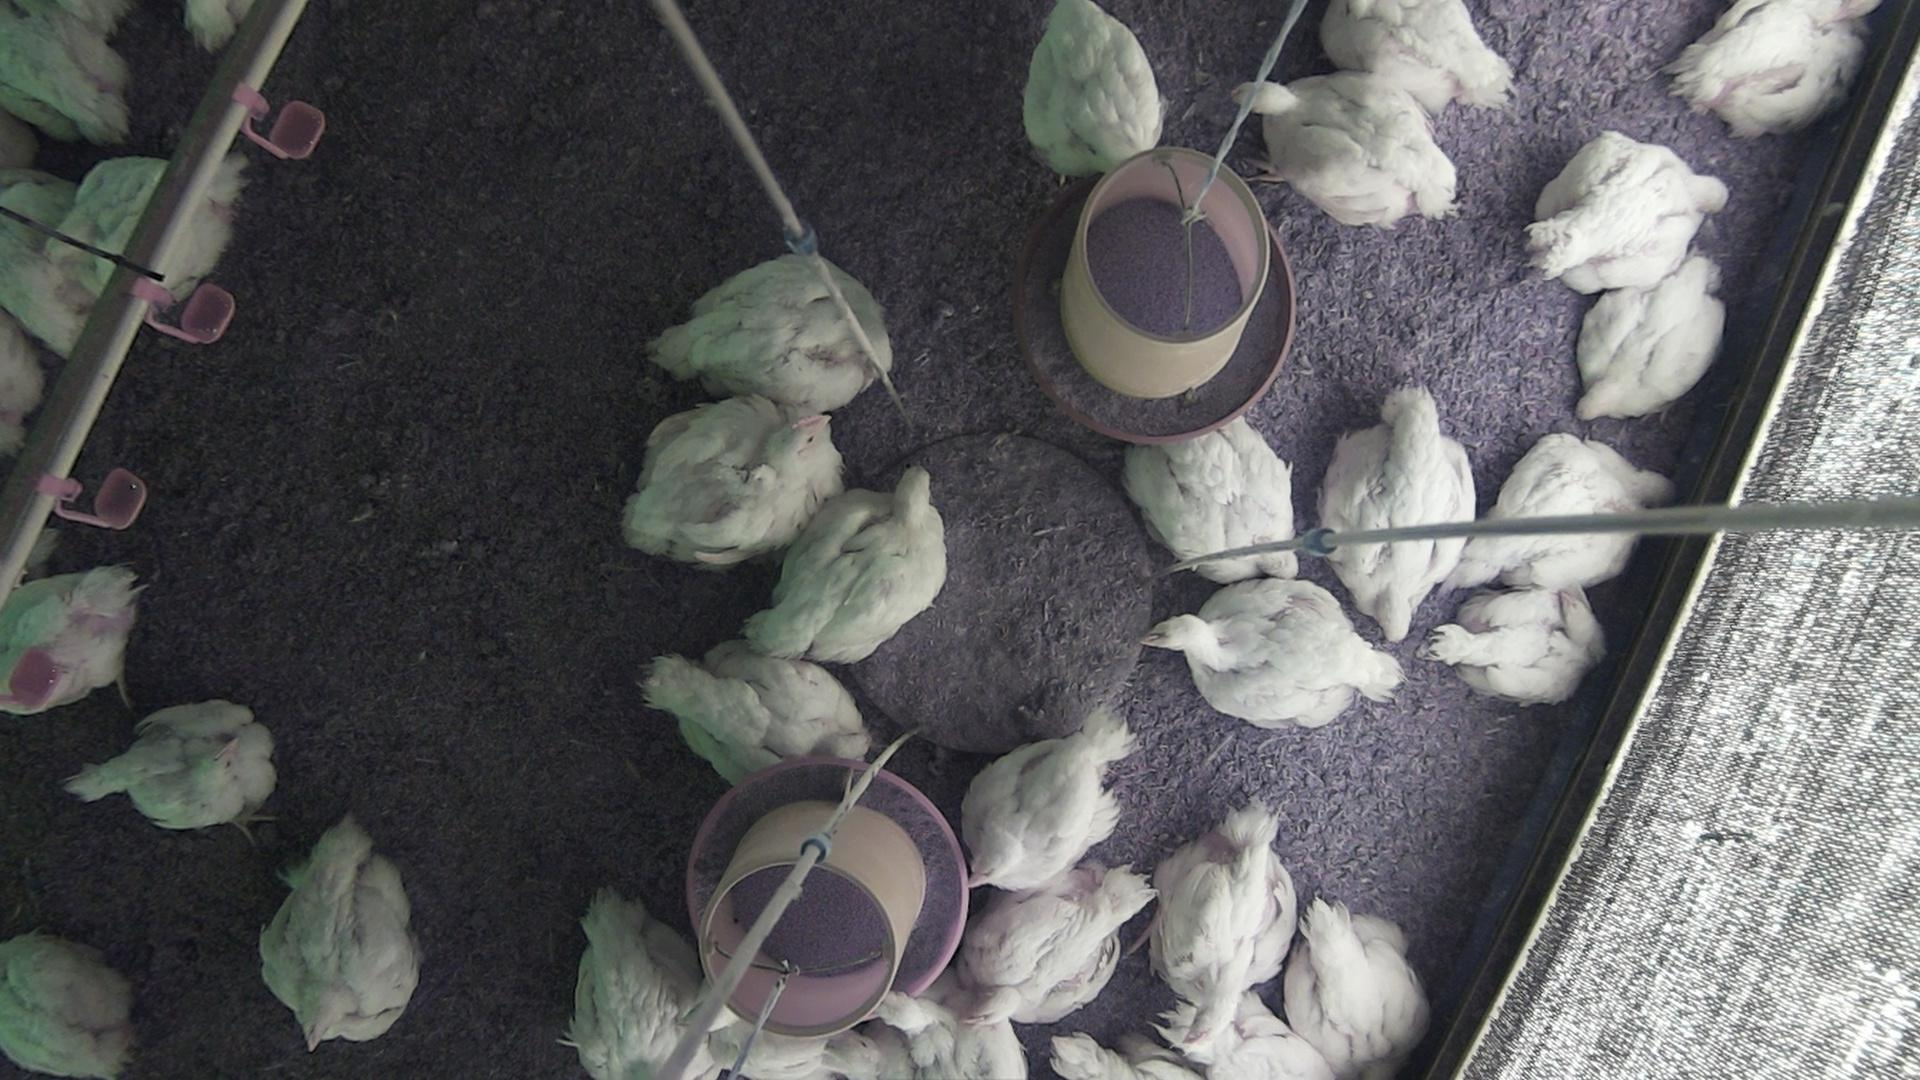ayam_broiler: (1317, 385, 1477, 642), (1141, 574, 1402, 728), (646, 245, 891, 406), (746, 469, 947, 663), (621, 396, 847, 567), (260, 815, 421, 1047), (1440, 435, 1676, 589), (1155, 803, 1298, 1044), (1246, 71, 1458, 227), (642, 650, 874, 787), (1528, 132, 1727, 291), (963, 707, 1134, 891), (964, 870, 1155, 1025), (1124, 415, 1296, 575), (1673, 0, 1871, 137), (67, 700, 276, 829), (574, 887, 705, 1080), (1022, 0, 1163, 177), (1292, 897, 1427, 1079), (1578, 256, 1725, 419), (0, 564, 141, 715), (1, 166, 111, 357), (1429, 585, 1604, 703), (1333, 0, 1513, 111), (0, 932, 132, 1079), (0, 1, 131, 145), (870, 993, 1027, 1080), (705, 1019, 880, 1079)
